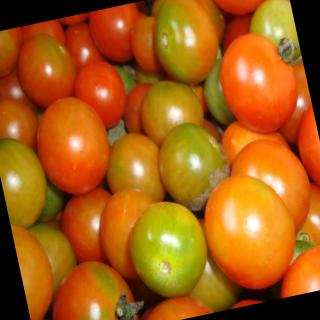Tomat: (192, 162, 310, 302), (210, 21, 311, 144), (118, 191, 219, 311), (28, 87, 124, 204), (147, 113, 242, 224), (143, 1, 230, 95), (39, 249, 147, 320), (8, 23, 86, 114)
